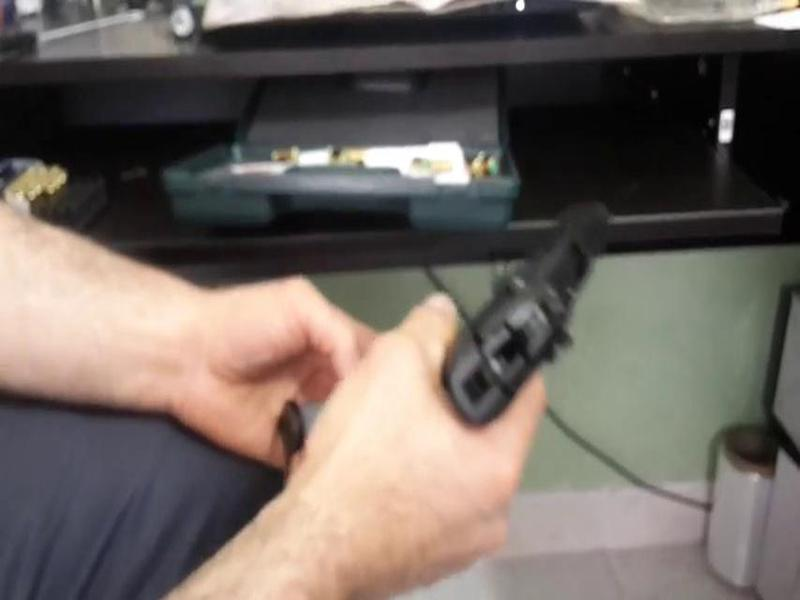Pistola: (447, 174, 609, 427)
